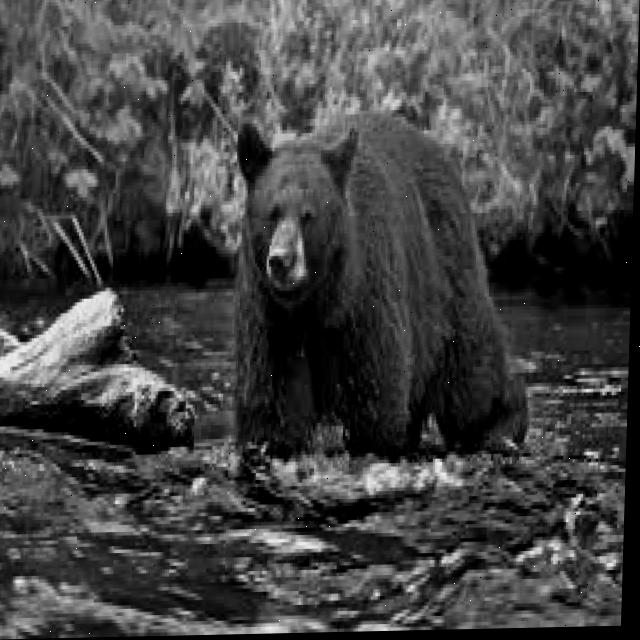Bear: (229, 115, 537, 497)
